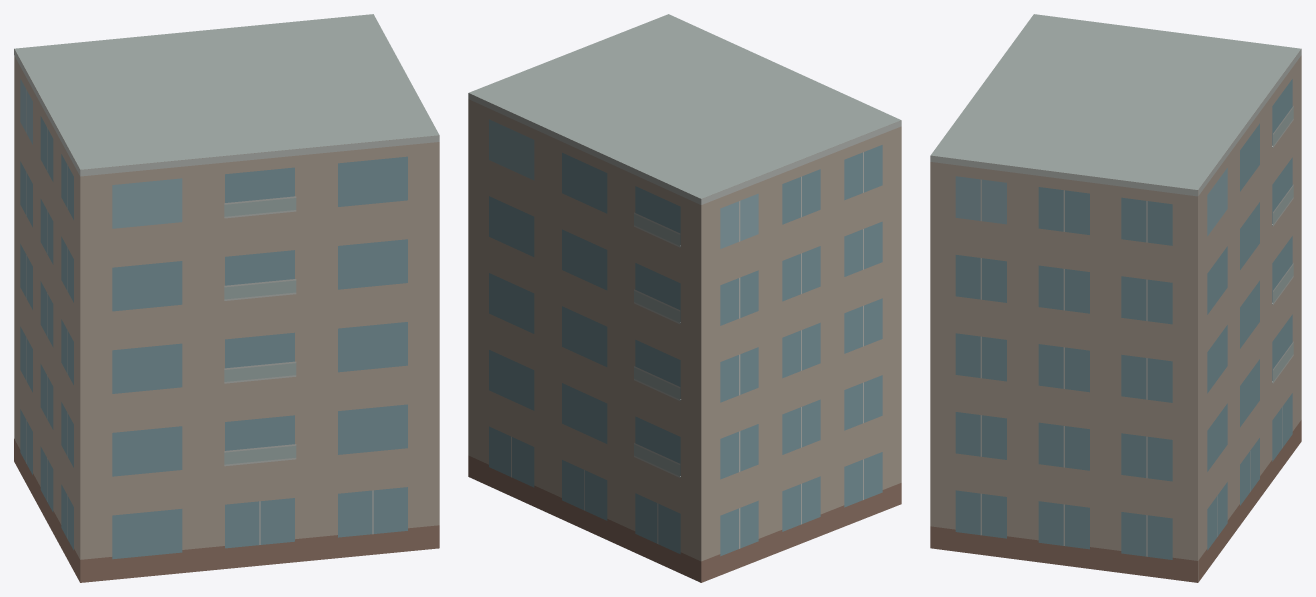
The model's file is survey-upis-32870044.glb.
The picture shows the model from 3 angles, left to right: view 1: azimuth 30°, elevation 25°; view 2: azimuth 150°, elevation 25°; view 3: azimuth 270°, elevation 25°; orthographic projection. The views are drawn at different scales.
Visible parts, largest first — view 1: survey-upis-32870044.tmp; view 2: survey-upis-32870044.tmp; view 3: survey-upis-32870044.tmp.
Boxes of the visible parts, left/top/right/bottom form: survey-upis-32870044.tmp: left=14, top=14, right=439, bottom=582; survey-upis-32870044.tmp: left=468, top=14, right=901, bottom=582; survey-upis-32870044.tmp: left=930, top=14, right=1301, bottom=582.
Size of the model in its own units: 14.53 by 15.1 by 12.94.
